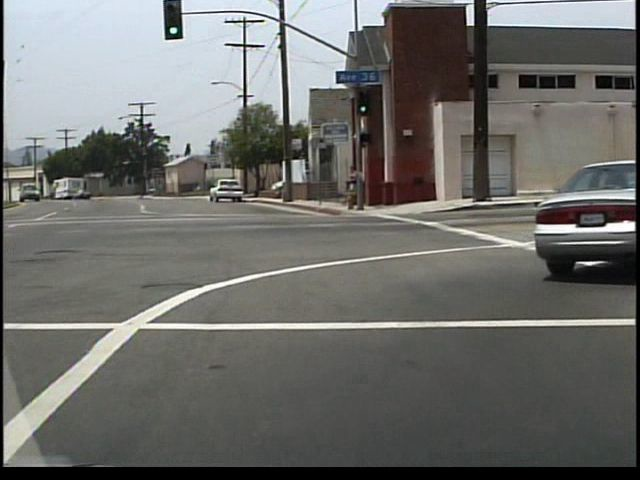person: (350, 167, 370, 213)
